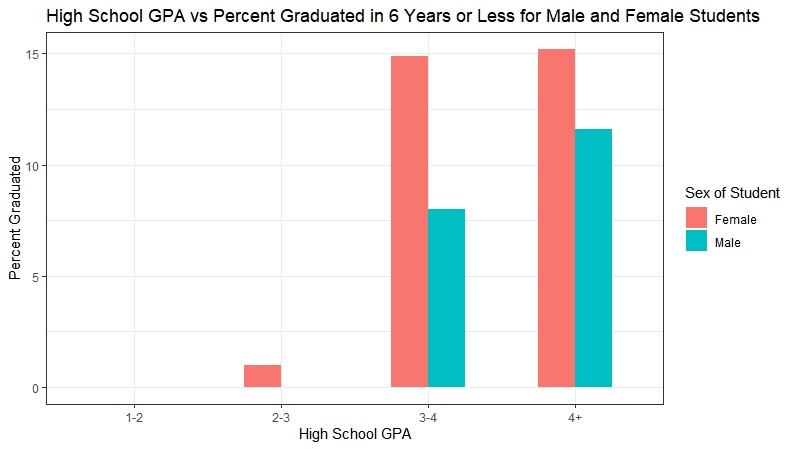

The dashboard page shown, as its layout file describes it:
{"tool":"tableau","page":{"name":"Dashboard 1","canvas":[800,500],"ordinal":0},"visuals":[{"type":"worksheet","title":"Sheet 1","mark":"Automatic","rows":["A","B"],"cols":["Agree (copy)_1437492741480001537","Calculation_1437492741479895040"],"box":[8,8,784,484]},{"type":"legend","title":"Sheet 1","param":"[federated.05f93y21k277er1e6bovs163s65s].[:Measure Names]","box":[223,61,336,34]}]}

Visuals, with their boxes on the page's 800x500 design canvas (x1, y1, x2, y2). These are canvas units, not pixel positions in the 795x449 screenshot, which may show the page scaled, cropped or inside an application window:
"Sheet 1" worksheet: box(8, 8, 792, 492)
"Sheet 1" legend: box(223, 61, 559, 95)
